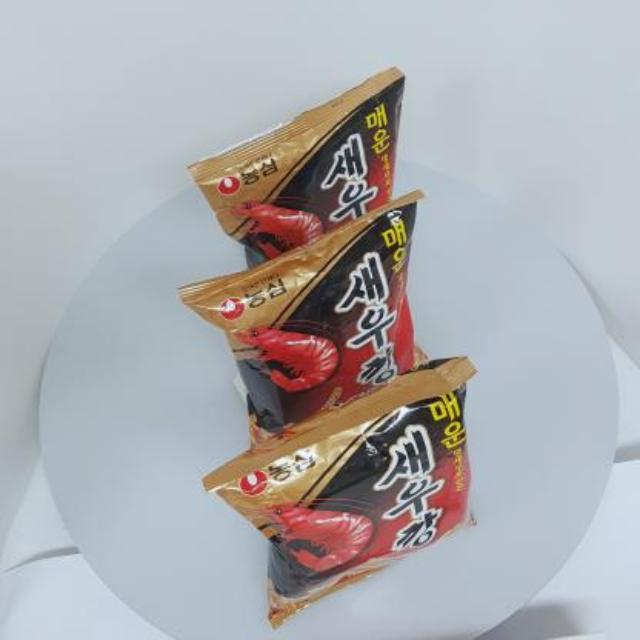snack_bag: (172, 59, 492, 632)
